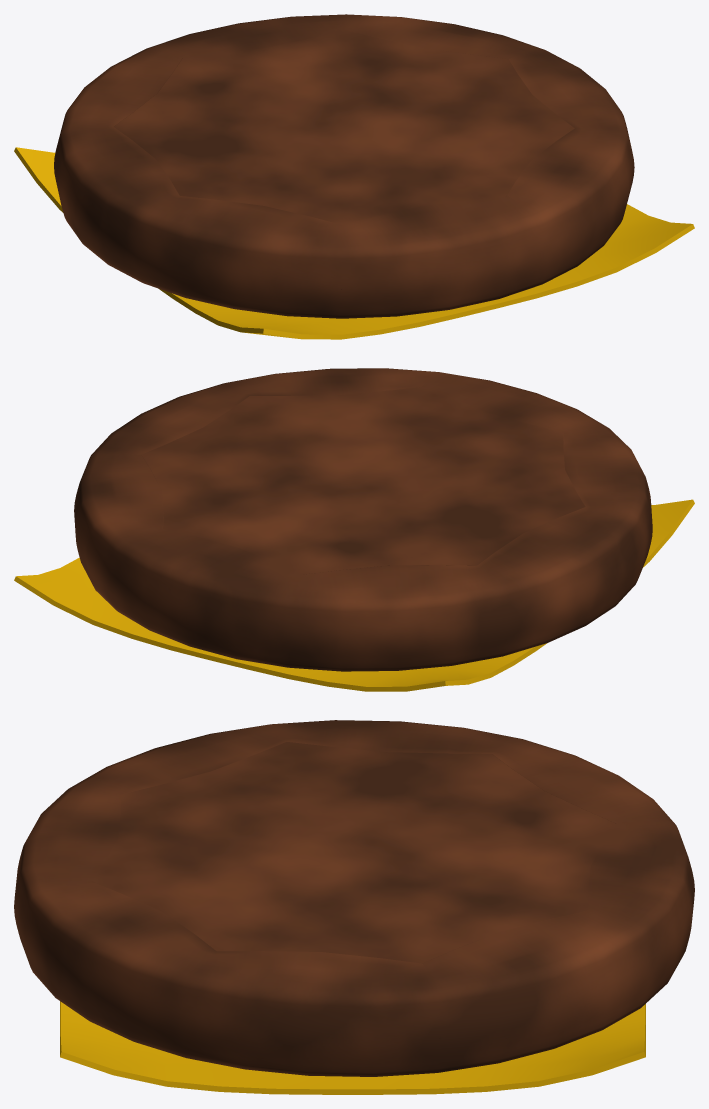
The model's file is cheese-meat.glb.
3 renders of one model, top to bottom at view 1: azimuth 30°, elevation 25°; view 2: azimuth 150°, elevation 25°; view 3: azimuth 270°, elevation 25°, orthographic. The views are drawn at different scales.
Visible parts, largest first — view 1: meat, cheese; view 2: meat, cheese; view 3: meat, cheese.
Boxes of the visible parts, x1,y1,x2,y2 form: meat: (54, 14, 634, 318); cheese: (14, 147, 694, 339); meat: (74, 368, 652, 671); cheese: (14, 499, 694, 691); meat: (14, 720, 694, 1076); cheese: (60, 1001, 645, 1094).
Size of the model in its own units: 0.8902 by 0.1847 by 0.8902.
2 materials, 1 textured.
